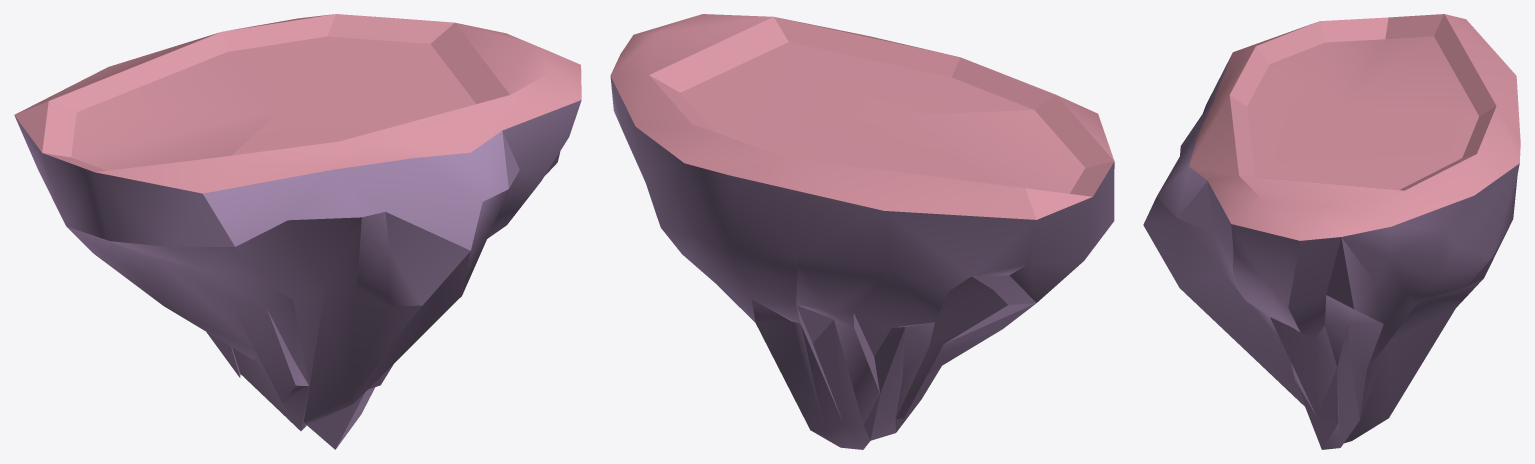
The model's file is ile_eau.fbx.
3 renders of one model, left to right at view 1: azimuth 30°, elevation 25°; view 2: azimuth 150°, elevation 25°; view 3: azimuth 270°, elevation 25°, orthographic. The views are drawn at different scales.
Visible parts, largest first — view 1: polySurface3; view 2: polySurface3; view 3: polySurface3.
Boxes of the visible parts, x1,y1,x2,y2 form: polySurface3: [14, 14, 581, 449]; polySurface3: [610, 14, 1114, 449]; polySurface3: [1143, 14, 1520, 449].
Size of the model in its own units: 49.55 by 34.21 by 35.01.
